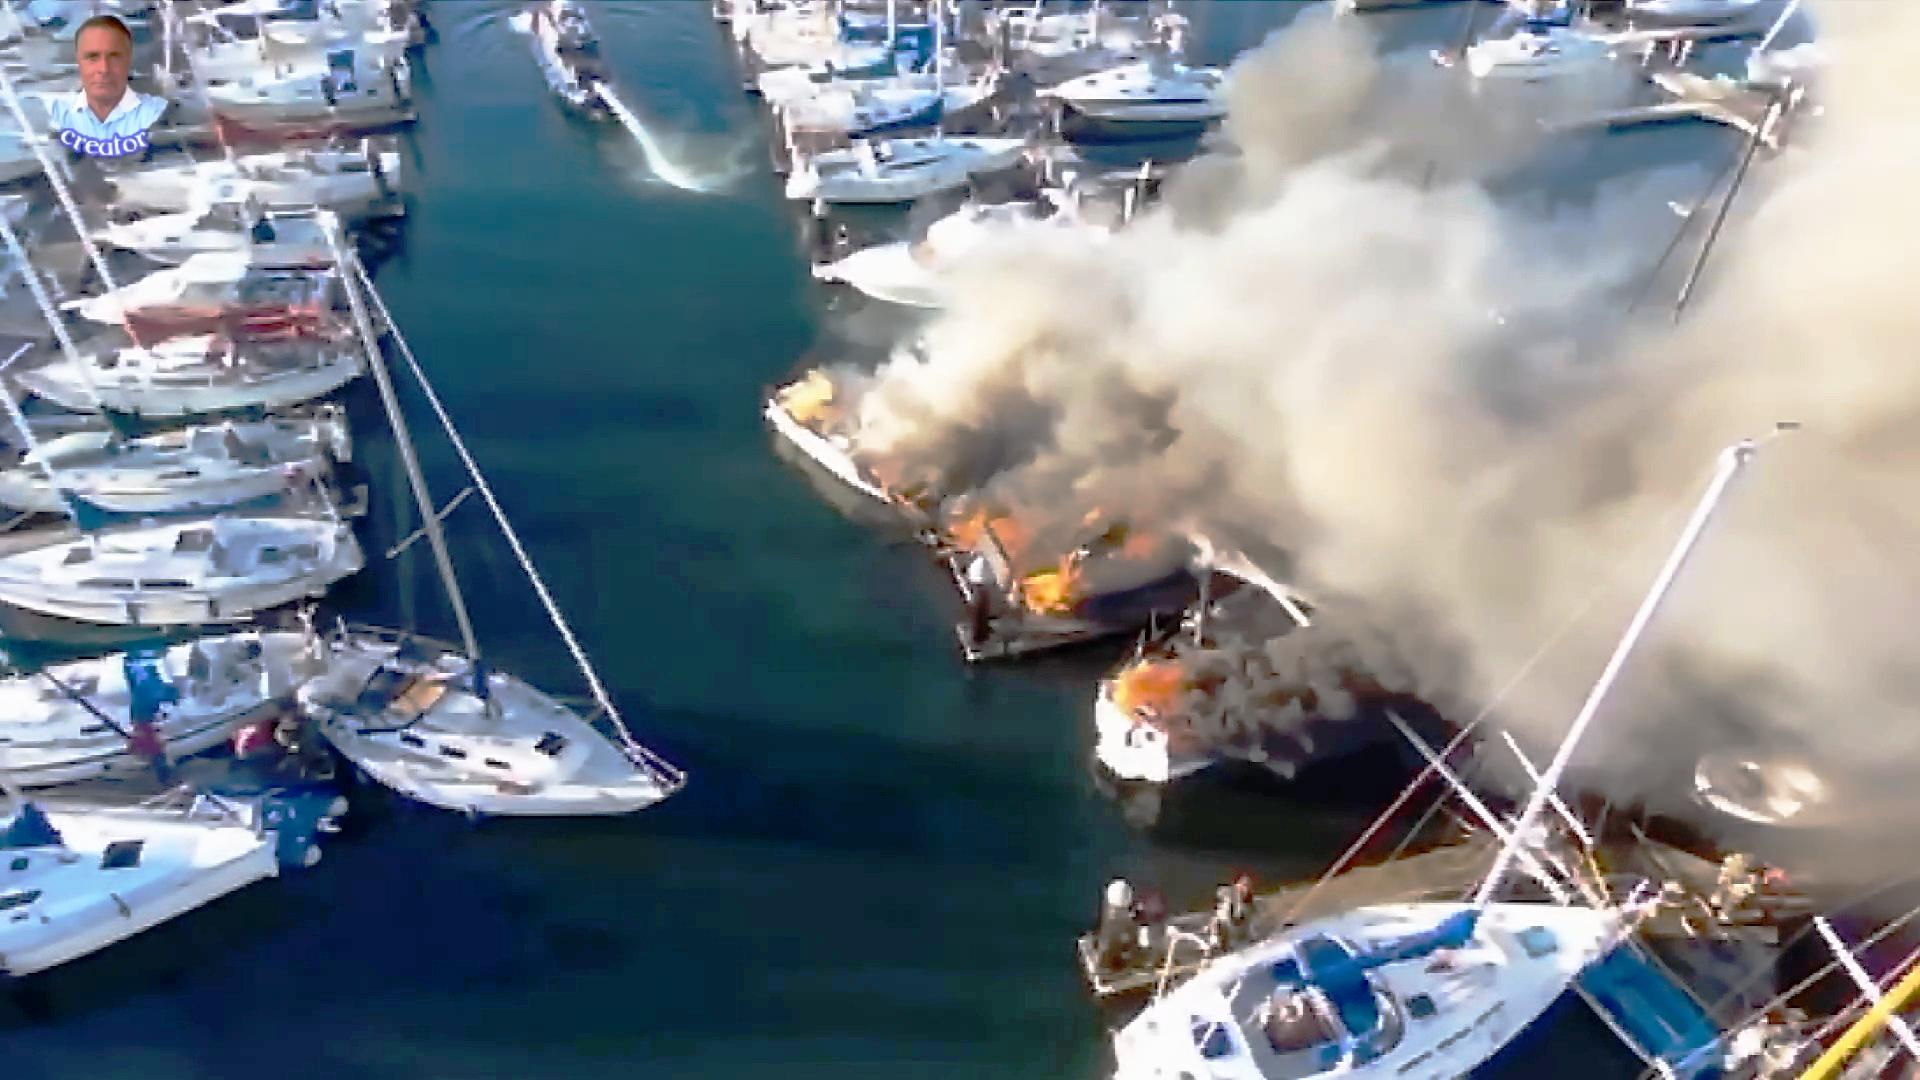fire: (956, 508, 1093, 608), (1096, 669, 1164, 728)
smoke: (1461, 340, 1863, 657), (1038, 248, 1449, 549), (1238, 618, 1383, 764)
